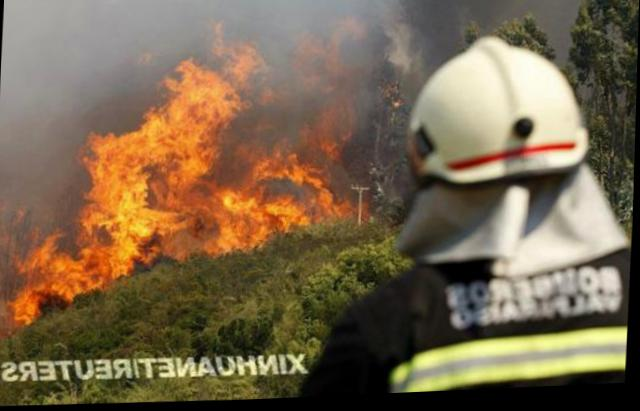fire: (6, 26, 371, 341)
